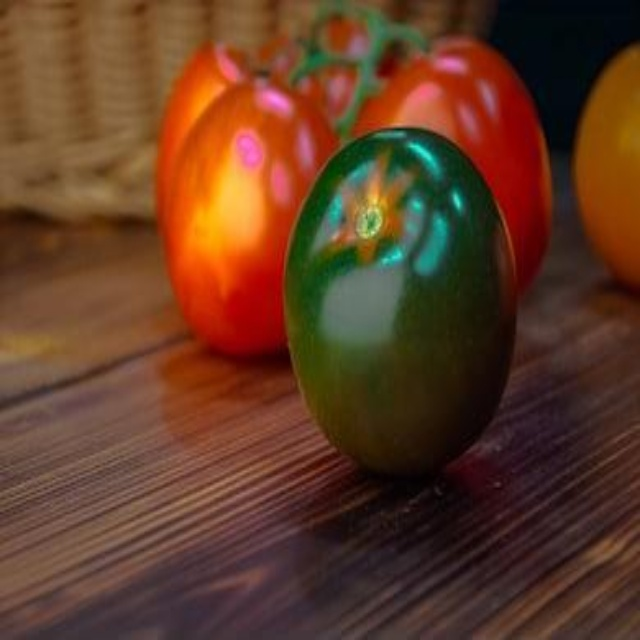tomato: (283, 132, 510, 480), (156, 63, 331, 356), (364, 42, 557, 286), (573, 42, 639, 274)
